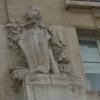Statue: (12, 4, 66, 80)
